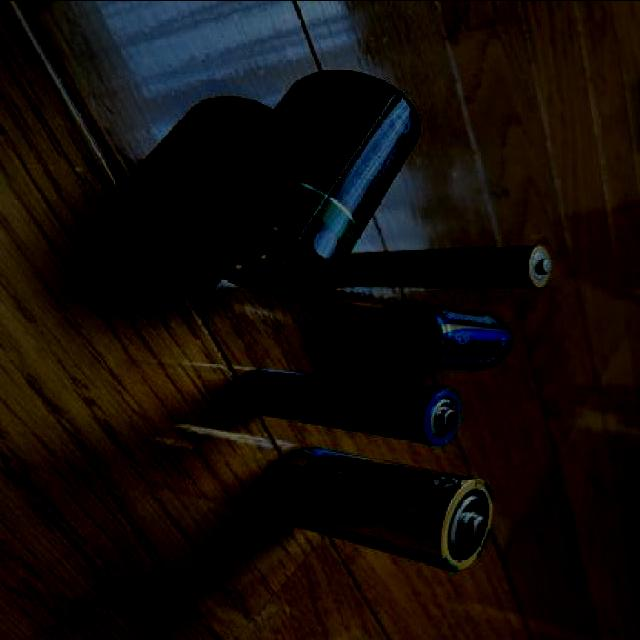AA: (237, 364, 460, 446)
AAA: (358, 241, 557, 294)
